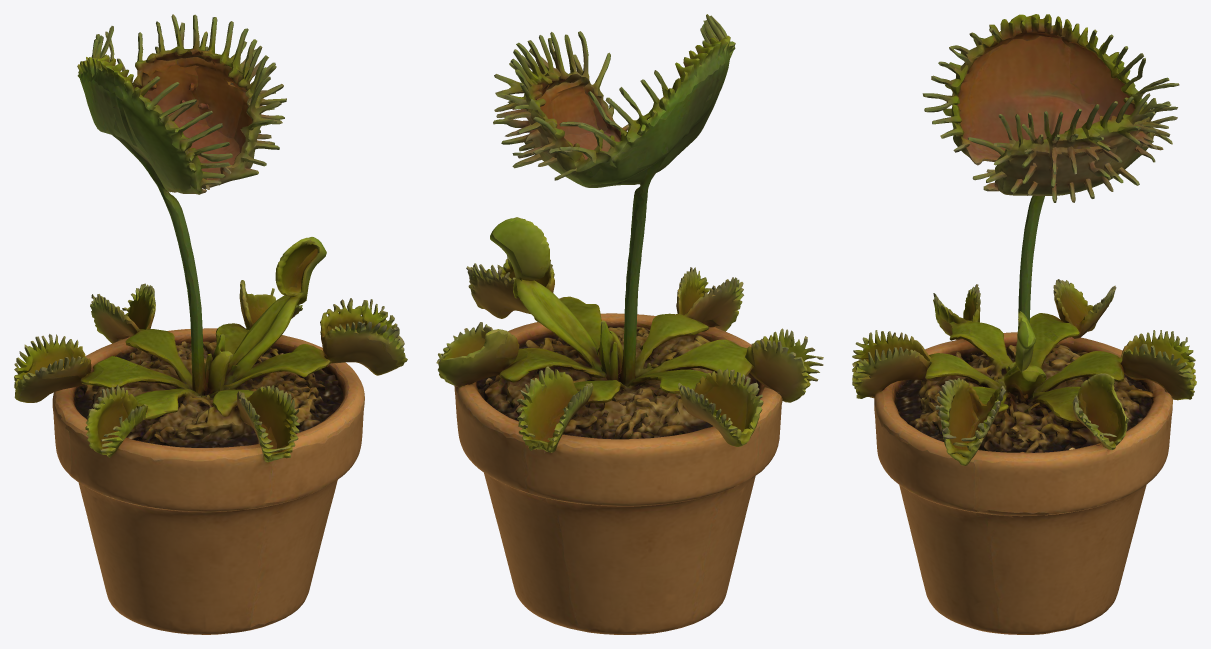
The model's file is parts.glb.
3 views of the same model, side by side, from view 1: azimuth 30°, elevation 25°; view 2: azimuth 150°, elevation 25°; view 3: azimuth 270°, elevation 25° (orthographic). The views are drawn at different scales.
Size of the model in its own units: 0.1558 by 0.25 by 0.1451.
Materials: 4 (4 with a texture image).
